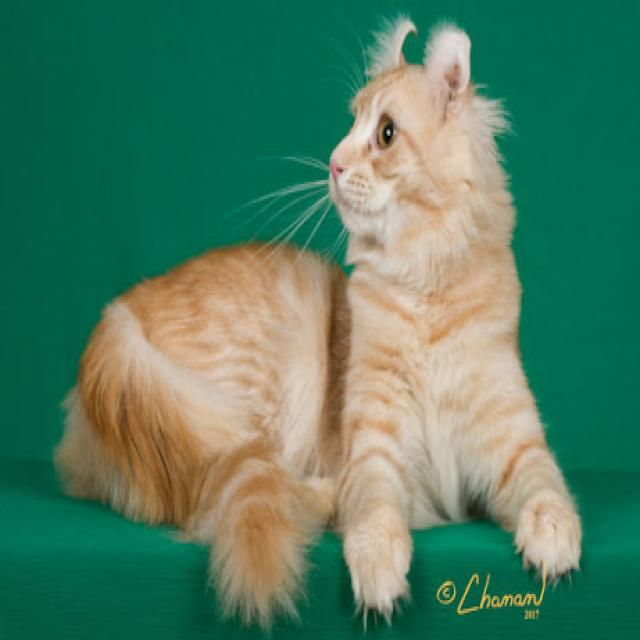American Curl: (50, 10, 588, 627)
